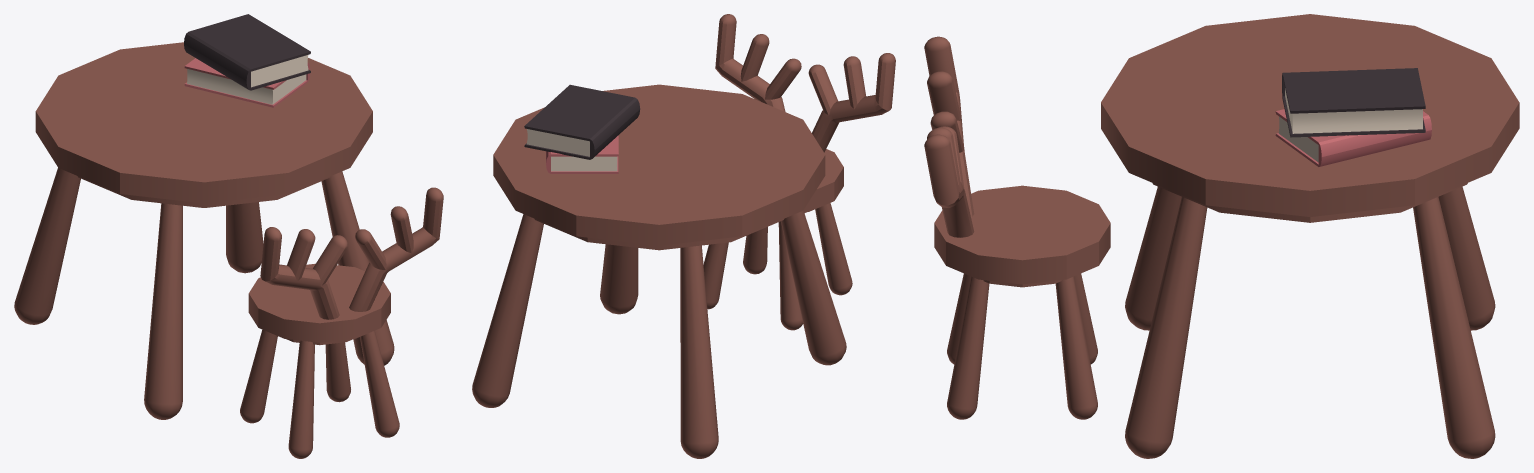
Rendered from Furn5_worktable_color2_joined.fbx.
3 renders of one model, left to right at view 1: azimuth 30°, elevation 25°; view 2: azimuth 150°, elevation 25°; view 3: azimuth 270°, elevation 25°, orthographic. The views are drawn at different scales.
Parts seen in each view (by area): view 1: Куб.001; view 2: Куб.001; view 3: Куб.001.
Boxes of the visible parts, bbox=[...] form: Куб.001: bbox=[14, 14, 443, 458]; Куб.001: bbox=[472, 14, 895, 458]; Куб.001: bbox=[924, 14, 1519, 458].
Bounding box in the file's own units: 185 × 166 × 263.
